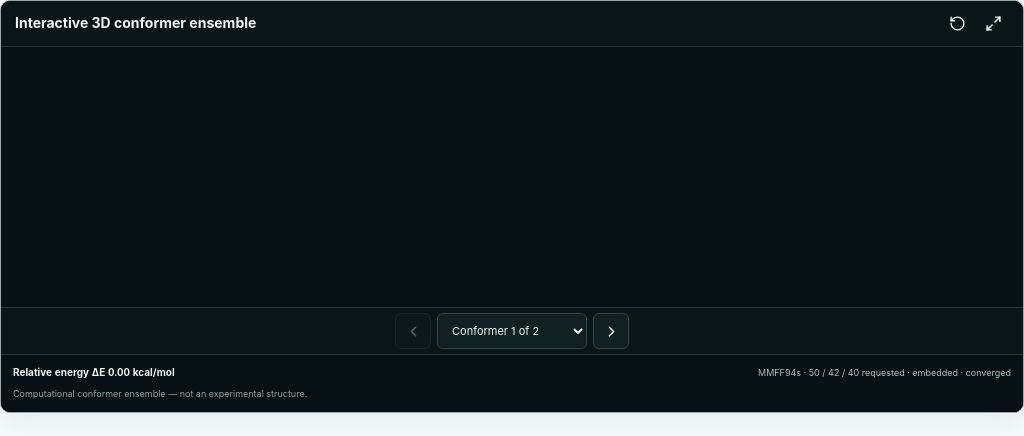
Test: conformer navigation changes the displayed relative energy
This screenshot has width=1024, height=436.
Check: the text "Relative energy ΔE 0.00 kcal/mol" is shown, box 13,365 -> 175,379
Click the button named "Next conformer".
click(611, 331)  # box 593,313 -> 629,349
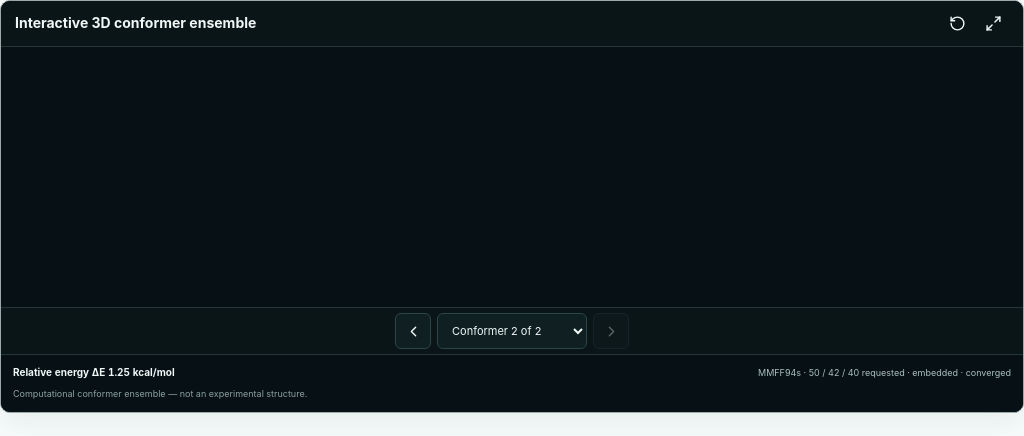
Check: the text "Computational conformer ensemble — not an experimental structure." is shown, box 13,388 -> 307,399
Check: the text "Relative energy ΔE 1.25 kcal/mol" is shown, box 13,365 -> 175,379
Check: the dropdown named "Select conformer" shows "Conformer 2 of 2", box 437,313 -> 587,349
